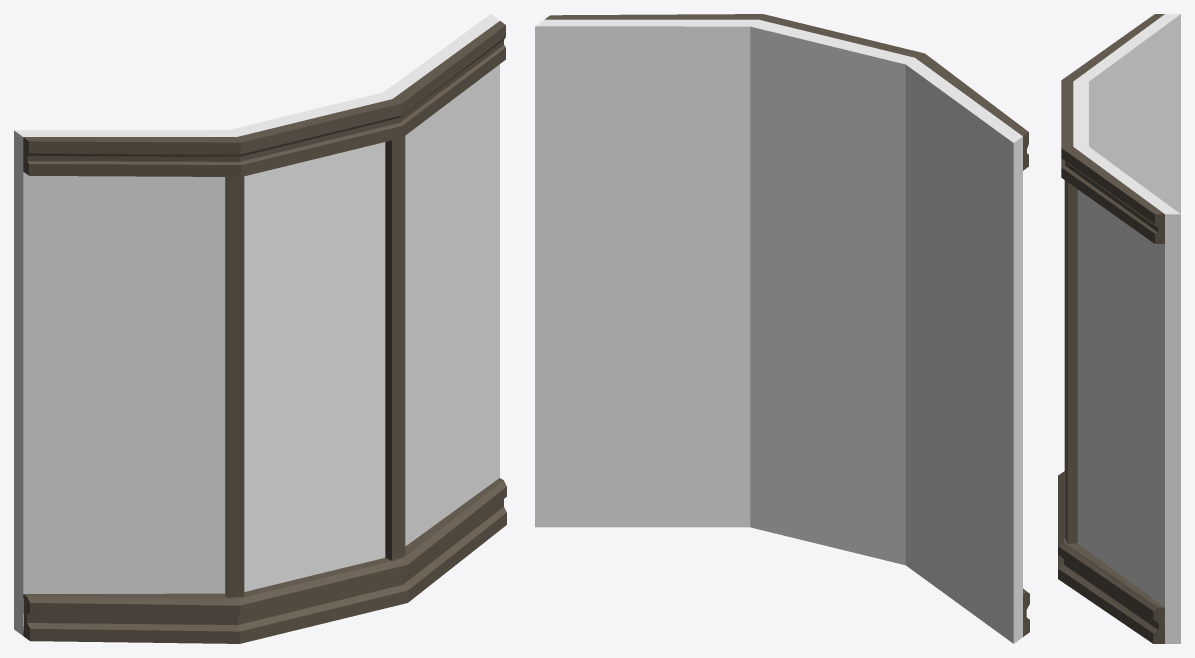
Rendered from WINDOW_01_Balkon_1.fbx.
3 renders of one model, left to right at view 1: azimuth 30°, elevation 25°; view 2: azimuth 150°, elevation 25°; view 3: azimuth 270°, elevation 25°, orthographic. The views are drawn at different scales.
Parts seen in each view (by area): view 1: WINDOW_01_Balkon_1; view 2: WINDOW_01_Balkon_1; view 3: WINDOW_01_Balkon_1.
Part boxes in pixels (x1,y1,x2,y2): WINDOW_01_Balkon_1: (14, 14, 506, 643); WINDOW_01_Balkon_1: (535, 14, 1029, 643); WINDOW_01_Balkon_1: (1058, 14, 1180, 643).
Size of the model in its own units: 300 by 300 by 77.77.
